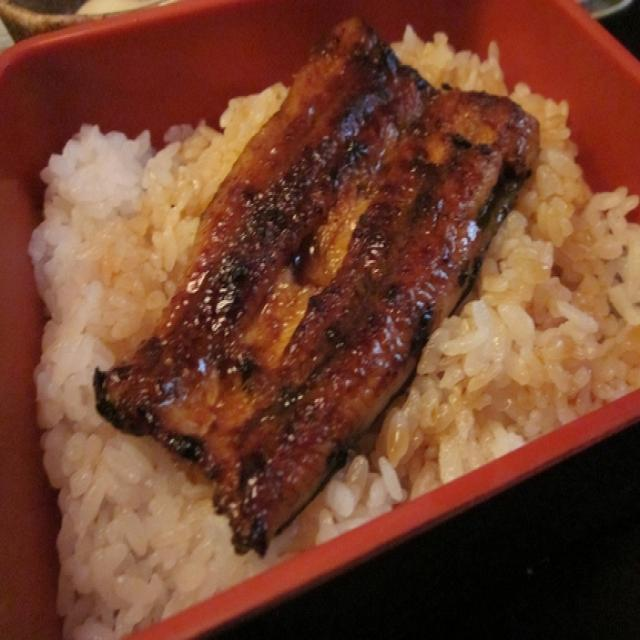熟制海鲜: (28, 18, 623, 610)
